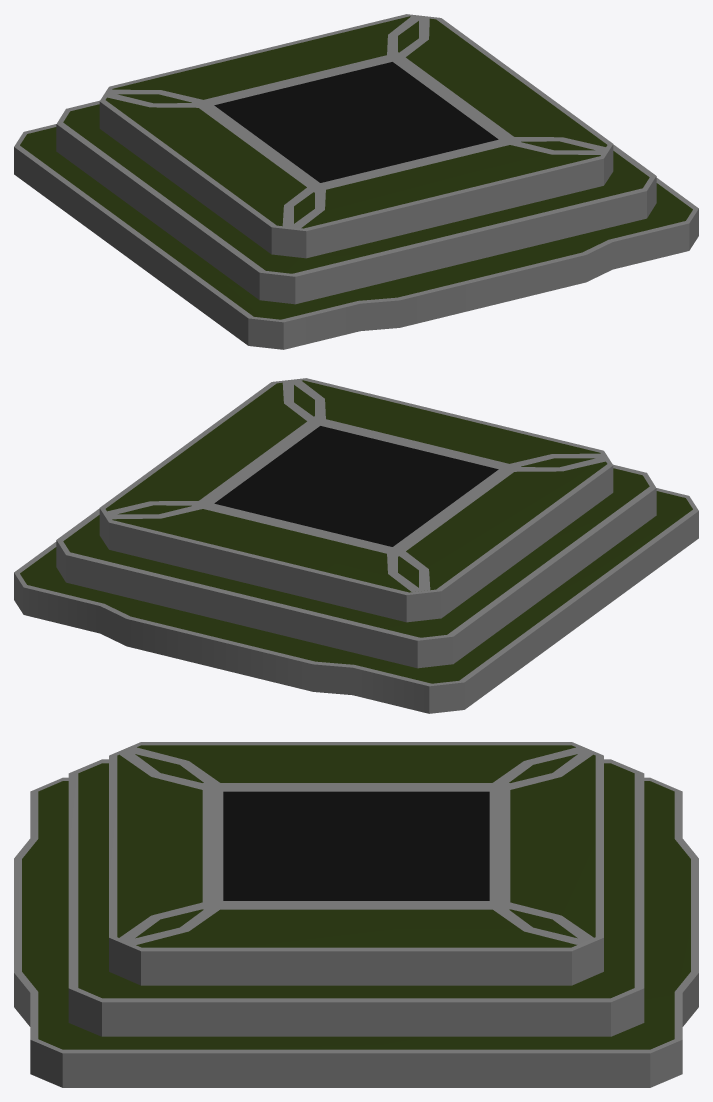
The model's file is W_O_Forum_Flowerbed_001_L3.fbx.
The picture shows the model from 3 angles, top to bottom: view 1: azimuth 30°, elevation 25°; view 2: azimuth 150°, elevation 25°; view 3: azimuth 270°, elevation 25°; orthographic projection. The views are drawn at different scales.
Parts seen in each view (by area): view 1: W_O_Forum_Flowerbed_001_L3; view 2: W_O_Forum_Flowerbed_001_L3; view 3: W_O_Forum_Flowerbed_001_L3.
Boxes of the visible parts, x1,y1,x2,y2 form: W_O_Forum_Flowerbed_001_L3: (14,14,698,349); W_O_Forum_Flowerbed_001_L3: (14,378,698,713); W_O_Forum_Flowerbed_001_L3: (14,742,698,1087).
Size of the model in its own units: 12 by 2.11 by 12.6.
